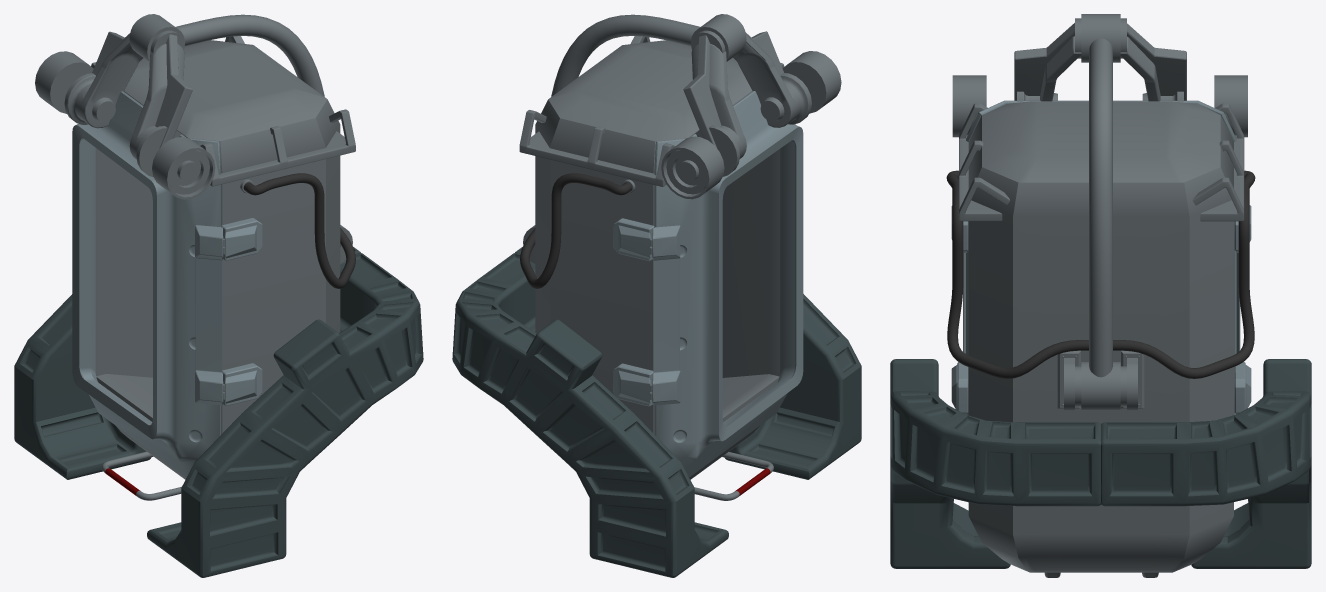
Rendered from Sleep_Capsule_Body.fbx.
The picture shows the model from 3 angles, left to right: view 1: azimuth 30°, elevation 25°; view 2: azimuth 150°, elevation 25°; view 3: azimuth 270°, elevation 25°; orthographic projection. The views are drawn at different scales.
Parts seen in each view (by area): view 1: Sleep_Capsule_Body; view 2: Sleep_Capsule_Body; view 3: Sleep_Capsule_Body.
Boxes of the visible parts, x1=… form: Sleep_Capsule_Body: x1=14, y1=14, x2=423, y2=577; Sleep_Capsule_Body: x1=452, y1=14, x2=861, y2=577; Sleep_Capsule_Body: x1=890, y1=14, x2=1311, y2=577.
Bounding box in the file's own units: 181 × 316 × 226.
